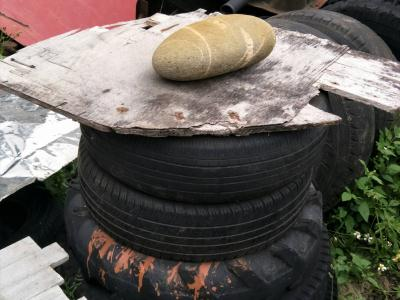tire: (83, 119, 328, 207)
